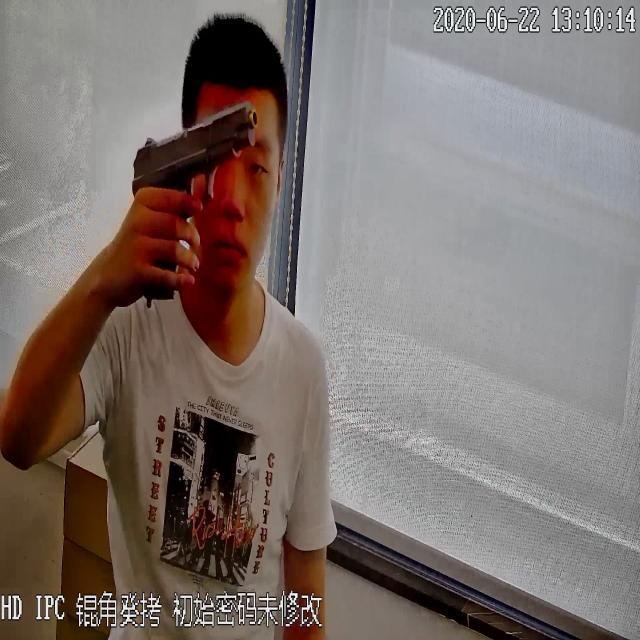gun-knife-thesis - v11 Yolov5 augmented: (128, 98, 262, 314)
